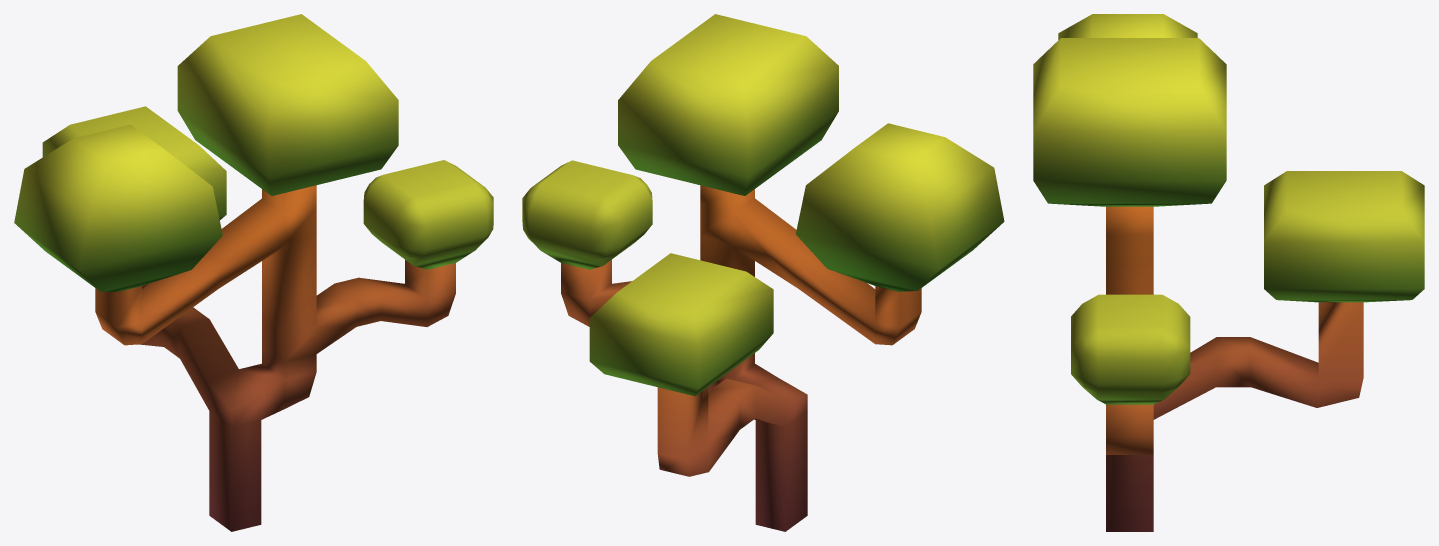
Rendered from Tree2.fbx.
The picture shows the model from 3 angles, left to right: view 1: azimuth 30°, elevation 25°; view 2: azimuth 150°, elevation 25°; view 3: azimuth 270°, elevation 25°; orthographic projection. The views are drawn at different scales.
Parts seen in each view (by area): view 1: polySurface5; view 2: polySurface5; view 3: polySurface5.
Boxes of the visible parts, left/top/right/bottom form: polySurface5: left=14, top=14, right=493, bottom=531; polySurface5: left=522, top=14, right=1004, bottom=531; polySurface5: left=1033, top=14, right=1424, bottom=531.
Bounding box in the file's own units: 6.03 × 6.1 × 4.41.
